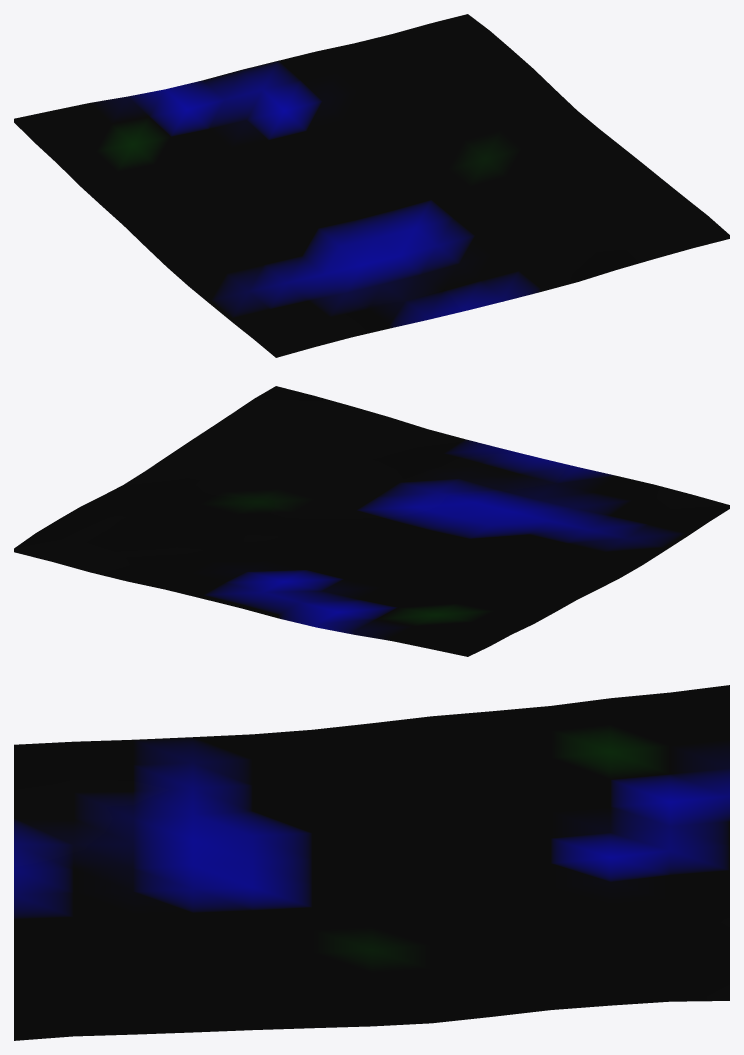
File: coast_14_4.glb
3 renders of one model, top to bottom at view 1: azimuth 30°, elevation 25°; view 2: azimuth 150°, elevation 25°; view 3: azimuth 270°, elevation 25°, orthographic. The views are drawn at different scales.
Visible parts, largest first — view 1: terrain; view 2: terrain; view 3: terrain.
Part boxes in pixels (x1,y1,x2,y2): terrain: (14,14,729,357); terrain: (14,386,729,656); terrain: (14,685,729,1040).
Bounding box in the file's own units: 192 × 19.17 × 192.
